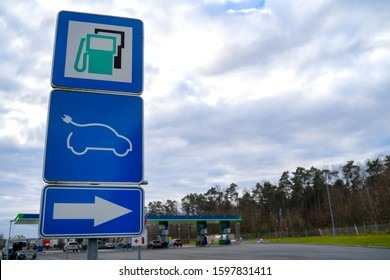fuel-station: (53, 9, 144, 92)
right turn: (48, 191, 139, 233)
